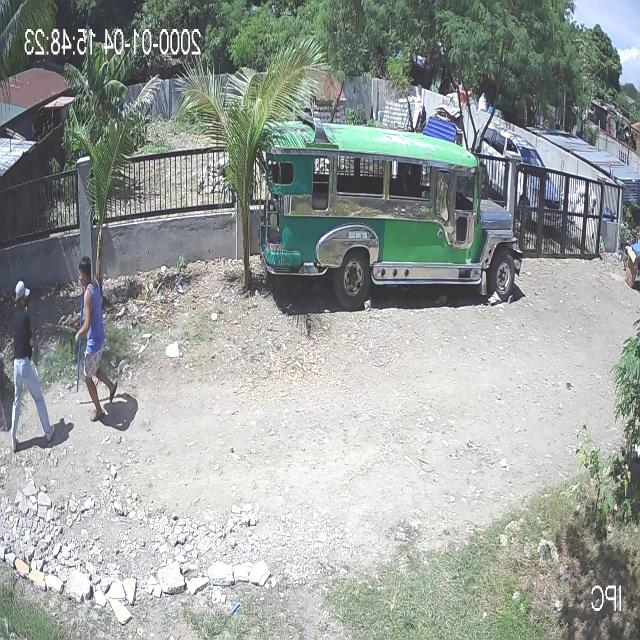running: (75, 255, 119, 422), (13, 276, 55, 439)
